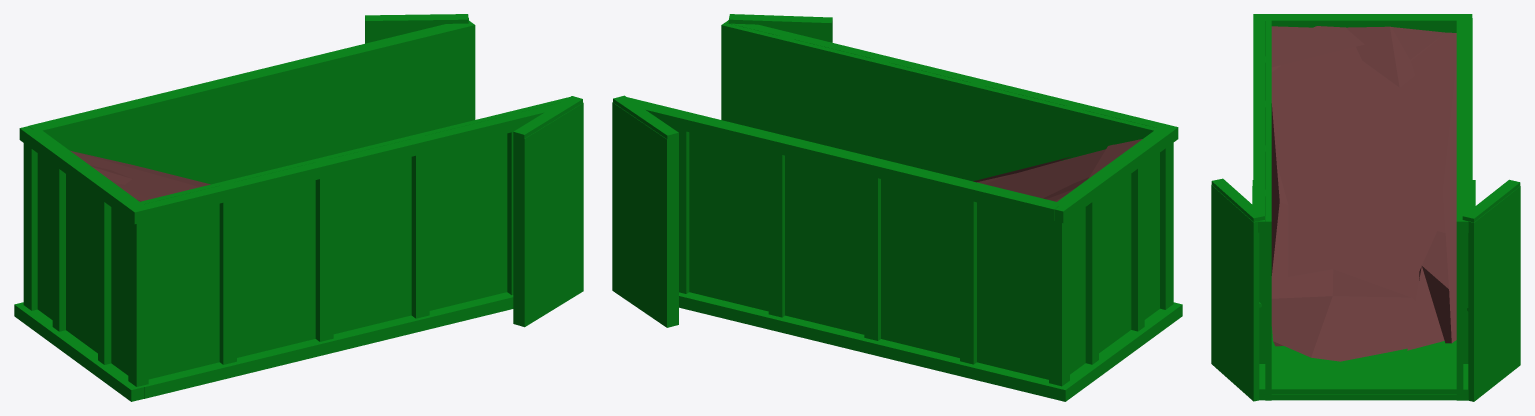
Rendered from dumpster.fbx.
The picture shows the model from 3 angles, left to right: view 1: azimuth 30°, elevation 25°; view 2: azimuth 150°, elevation 25°; view 3: azimuth 270°, elevation 25°; orthographic projection. The views are drawn at different scales.
Visible parts, largest first — view 1: Dumpster, Garbage; view 2: Dumpster, Garbage; view 3: Garbage, Dumpster.
Boxes of the visible parts, x1=… form: Dumpster: x1=14, y1=14, x2=583, y2=401; Garbage: x1=70, y1=150, x2=210, y2=201; Dumpster: x1=612, y1=14, x2=1182, y2=401; Garbage: x1=973, y1=139, x2=1142, y2=201; Garbage: x1=1271, y1=26, x2=1456, y2=361; Dumpster: x1=1211, y1=14, x2=1520, y2=401.
Bounding box in the file's own units: 537 × 222 × 334.
